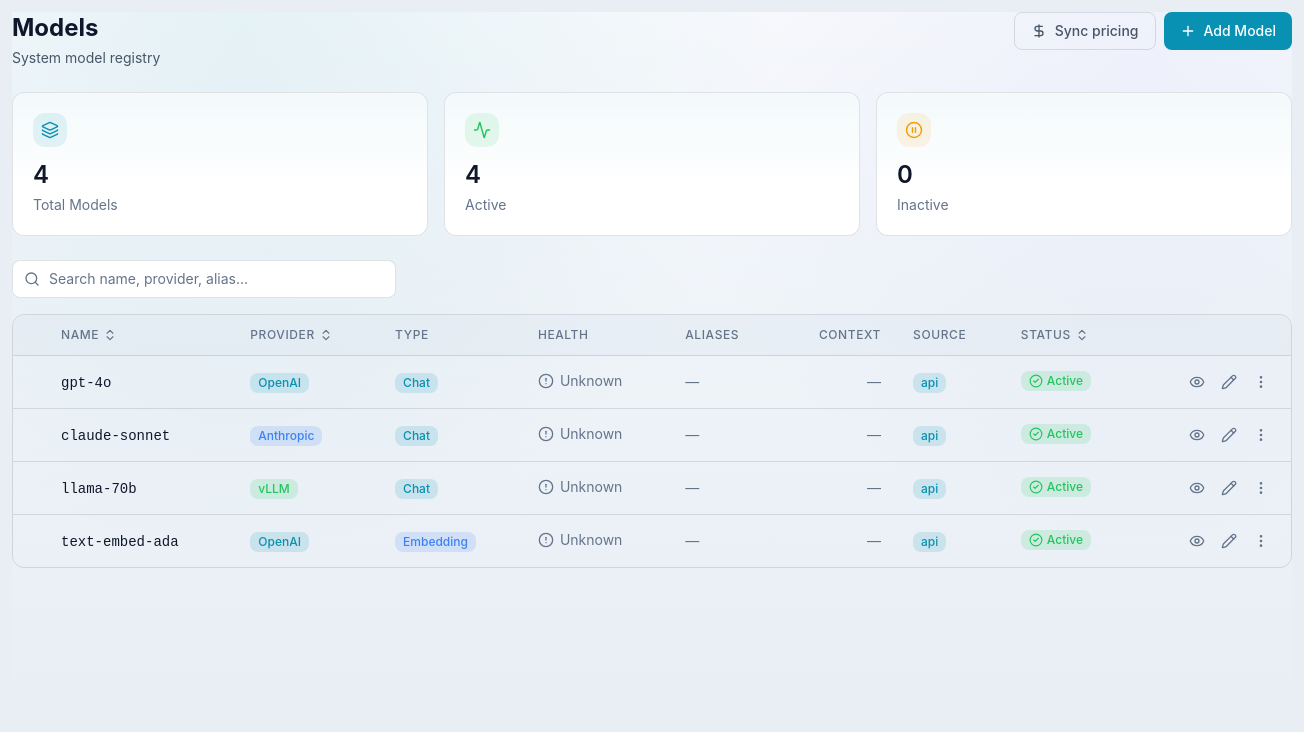
Test case: ModelsPage — search › shows an empty state with a clear action when nothing matches
Expected: the button "gpt-4o" is shown, [61,372,111,392]
Step 1. Type "zzz-nope" into the search field named "search models" → (204, 279), box [12,260,396,298]
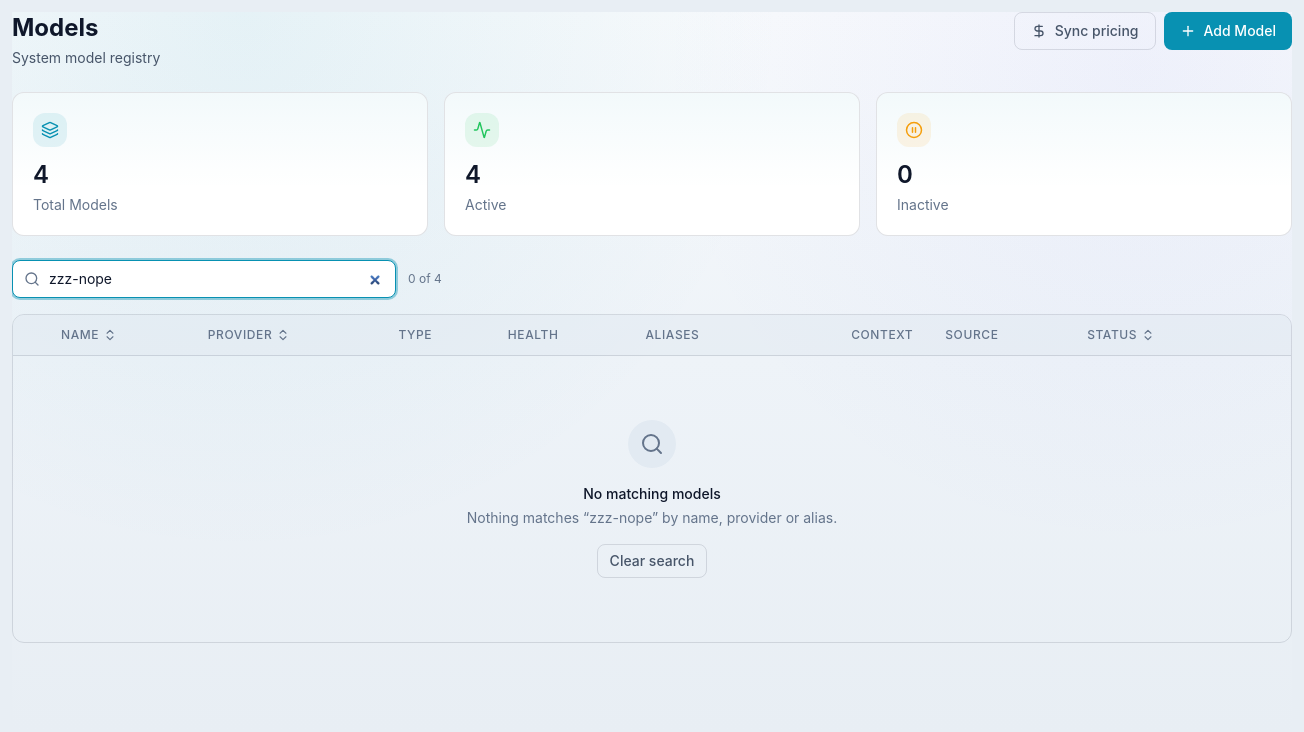
Now the heading "No matching models" is shown, box [583,485,721,502]
Step 2. Click the button "Clear search" → click(652, 561), box [597,544,707,578]
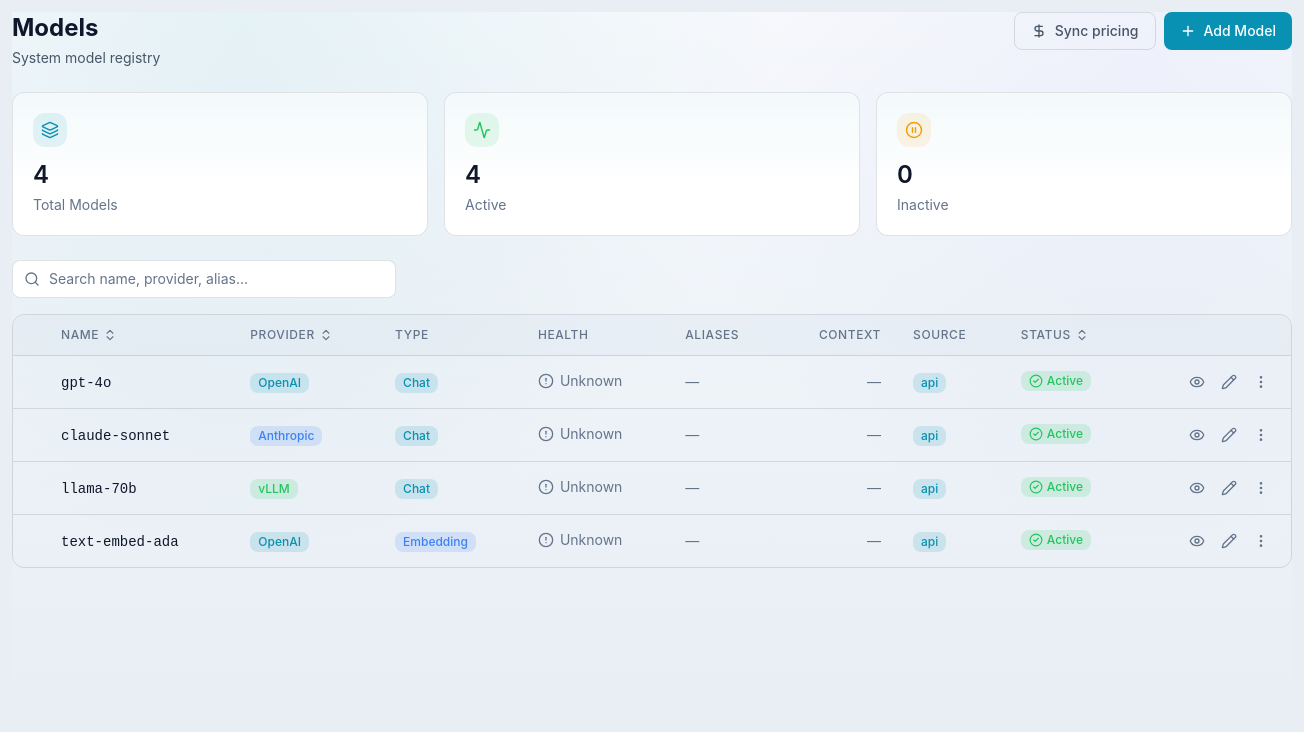
Now the button "gpt-4o" is shown, box [61,372,111,392]
